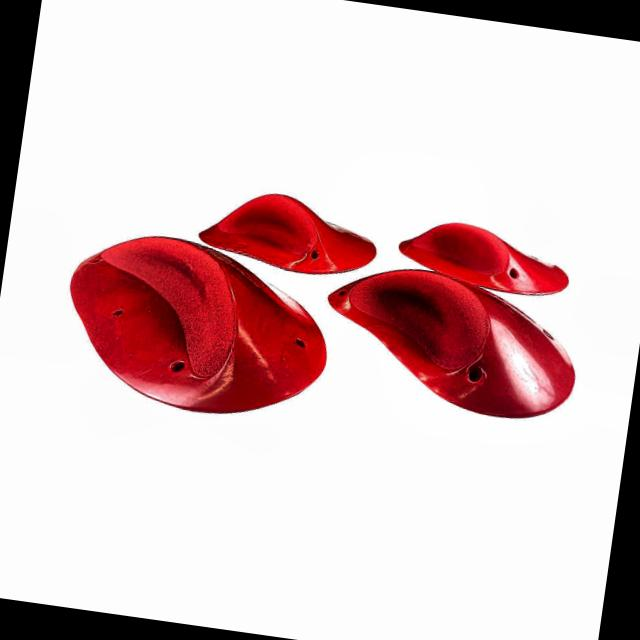Hold: (54, 226, 340, 430), (320, 262, 590, 427), (193, 180, 385, 284), (392, 209, 579, 301)
